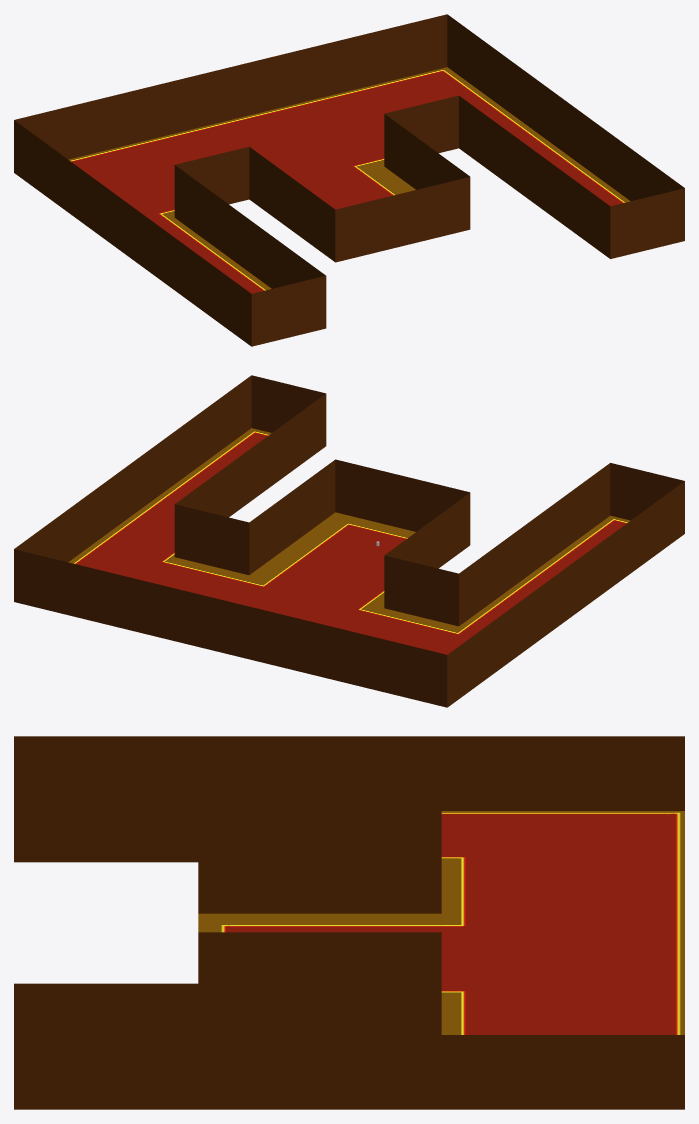
The model's file is LJSInteriorLevelTextureMaybe.fbx.
The picture shows the model from 3 angles, top to bottom: view 1: azimuth 30°, elevation 25°; view 2: azimuth 150°, elevation 25°; view 3: azimuth 270°, elevation 25°; orthographic projection. The views are drawn at different scales.
Visible parts, largest first — view 1: Plane; view 2: Plane; view 3: Plane.
Part boxes in pixels (x1,y1,x2,y2): Plane: (14, 14, 684, 346); Plane: (14, 375, 684, 707); Plane: (14, 736, 684, 1109).
Bounding box in the file's own units: 46190 × 5384 × 43856.
1 material, 1 textured.
